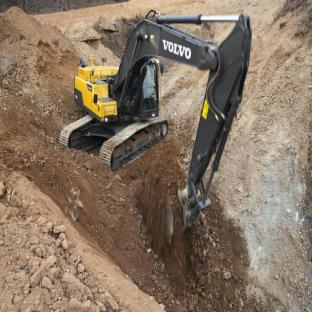ExcavationMachinery: (57, 11, 256, 242)
